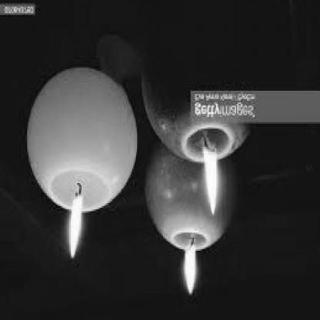Fire: (58, 182, 88, 262), (199, 132, 220, 224), (178, 236, 202, 309)
